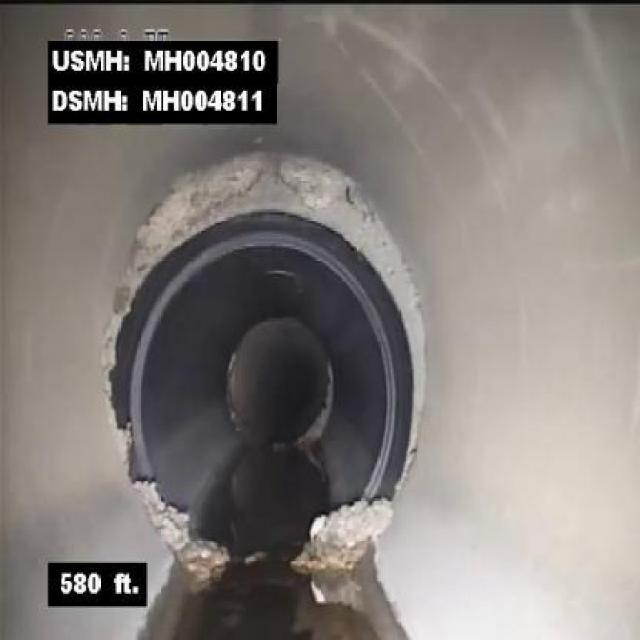Joint offset: (123, 152, 394, 254), (369, 256, 429, 418), (95, 254, 154, 394)
